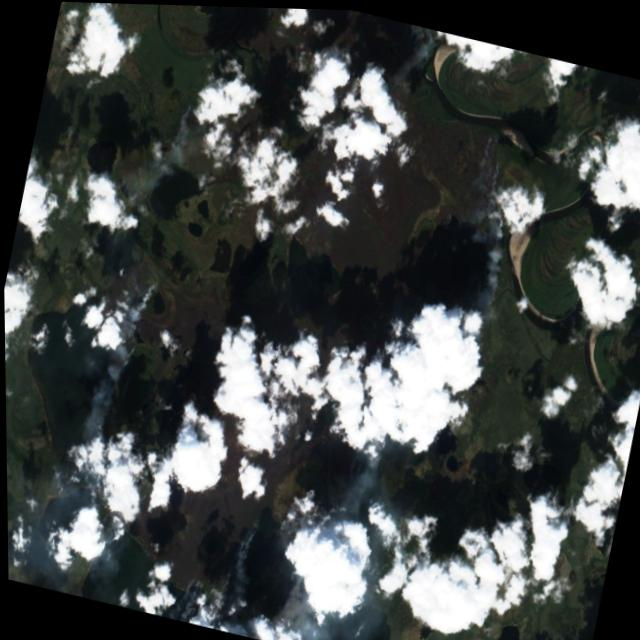fire: (177, 397, 416, 640), (432, 99, 550, 337), (98, 250, 176, 401), (156, 84, 220, 169)
